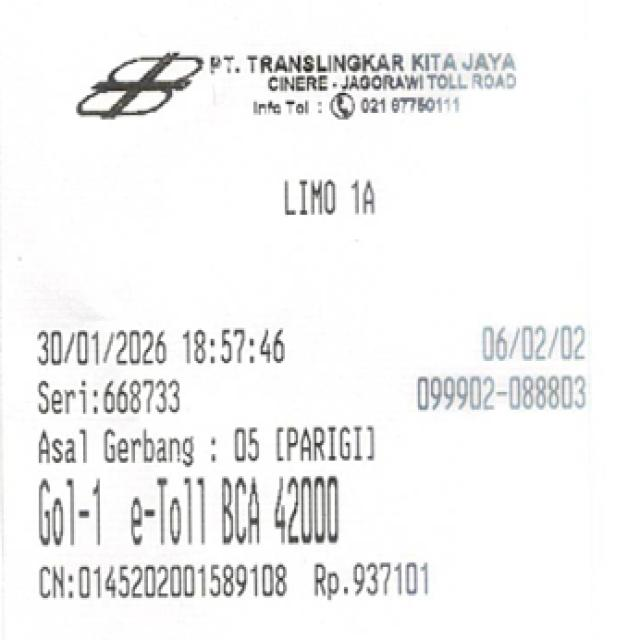date: (18, 322, 304, 369)
store: (202, 46, 538, 96)
total: (269, 477, 361, 548)
